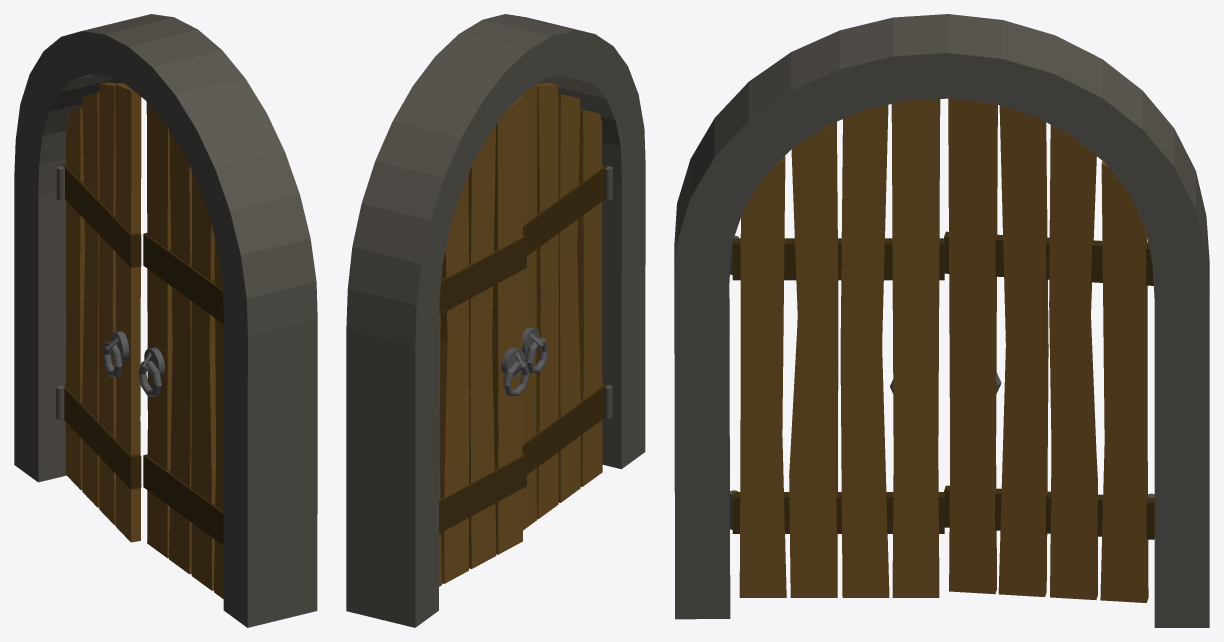
File: door.fbx
The picture shows the model from 3 angles, left to right: view 1: azimuth 30°, elevation 25°; view 2: azimuth 150°, elevation 25°; view 3: azimuth 270°, elevation 25°; orthographic projection. The views are drawn at different scales.
Visible parts, largest first — view 1: Cube, Cube.001, Cylinder.001; view 2: Cube, Cube.001, Cylinder.001; view 3: Cube.001, Cube.
Boxes of the visible parts, x1,y1,x2,y2 form: Cube: (14, 14, 317, 627); Cube.001: (62, 82, 223, 598); Cylinder.001: (56, 166, 64, 419); Cube: (346, 14, 645, 627); Cube.001: (439, 82, 607, 586); Cylinder.001: (604, 166, 612, 418); Cube.001: (732, 98, 1154, 602); Cube: (674, 14, 1209, 627).
Bounding box in the file's own units: 67.39 × 405 × 342.
